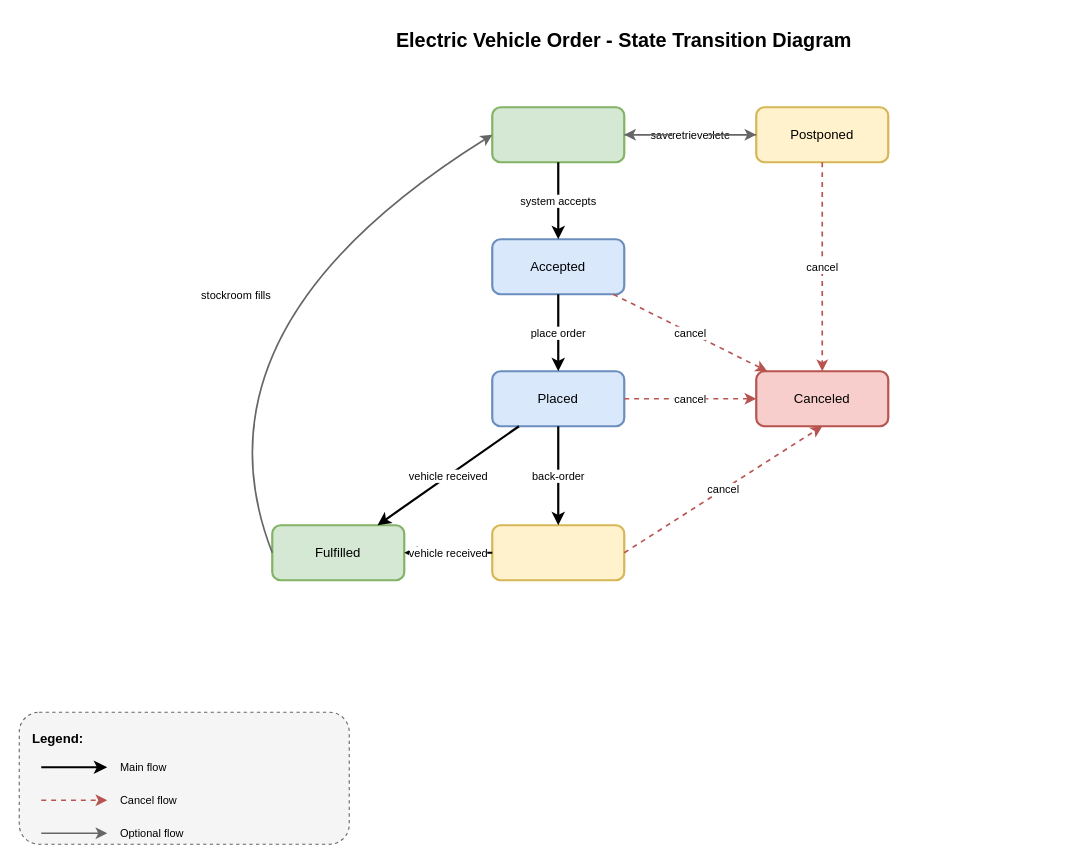
This 1084x864 diagram has some shape labels left out. Here are the shapes that lost their labels. From the top down, the centre of each, then its label:
At point 558,134: "In Preparation".
At point 558,552: "Back-Ordered".
